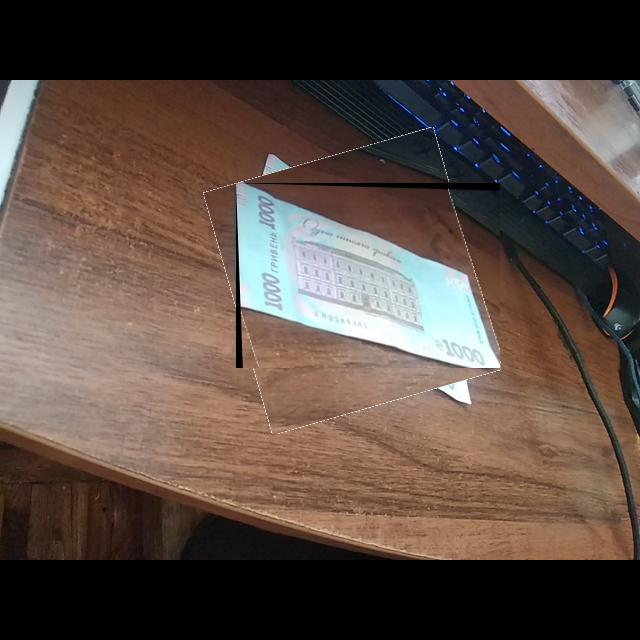1000uah: (238, 183, 501, 369)
